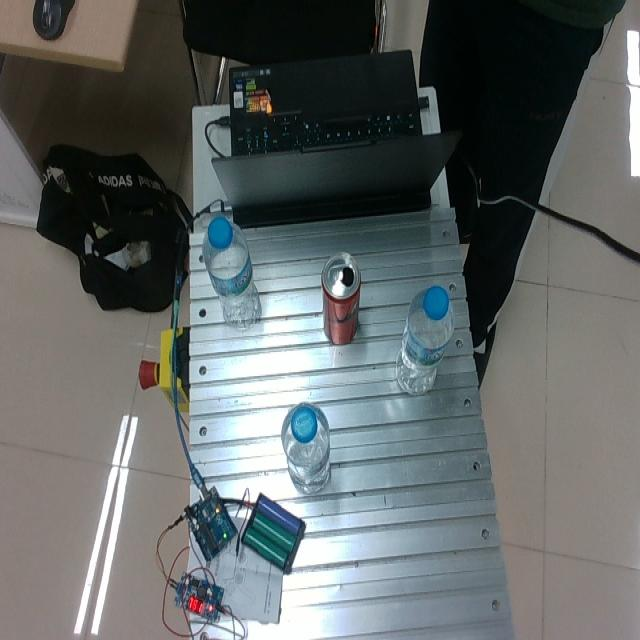coca: (320, 251, 362, 345)
lavie: (202, 215, 261, 329), (394, 287, 454, 396), (281, 403, 330, 493)
